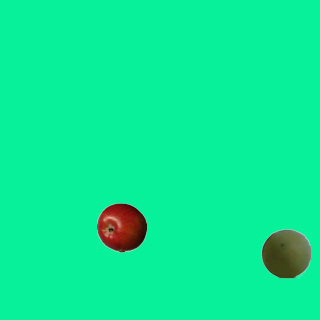Apple Braeburn: (96, 202, 146, 252)
Grape White 4: (260, 228, 310, 278)
